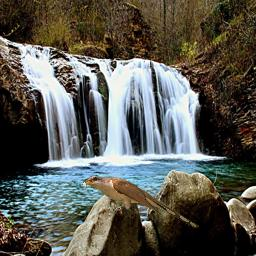Cuckoo: (79, 175, 199, 228)
